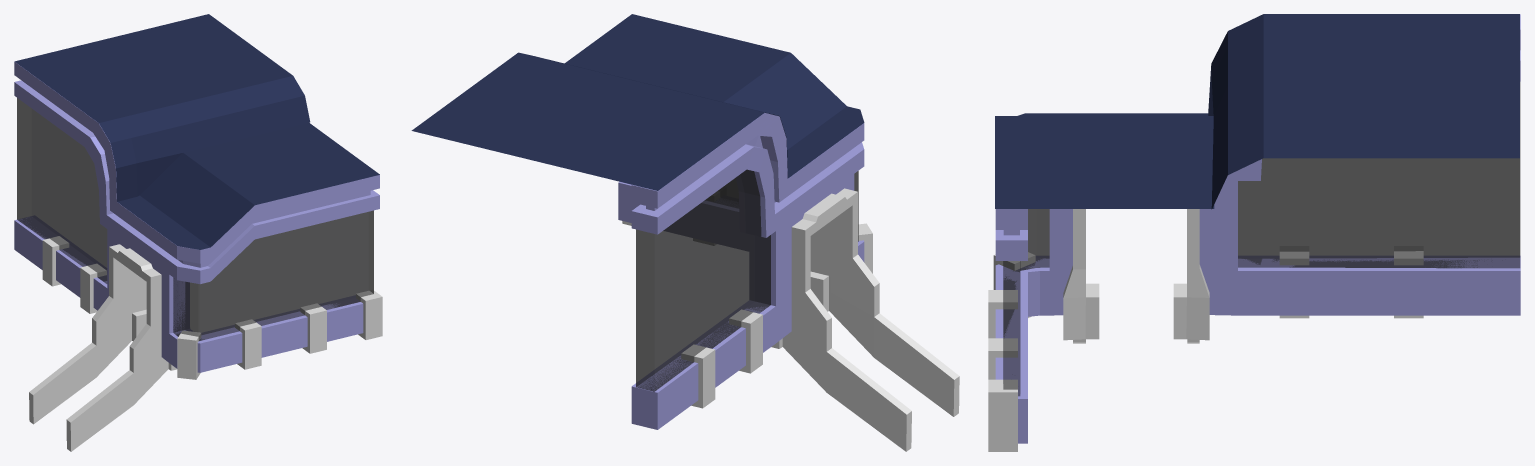
The model's file is labodepart.fbx.
3 renders of one model, left to right at view 1: azimuth 30°, elevation 25°; view 2: azimuth 150°, elevation 25°; view 3: azimuth 270°, elevation 25°, orthographic. The views are drawn at different scales.
Visible parts, largest first — view 1: Cube.004, Cube.003, Cube.002, Cube.005, Cube.009, Cube.006, Cube.008, Cube.007, Cube.011, Cube.010; view 2: Cube.004, Cube.002, Cube.005, Cube.003, Cube.011, Cube.010; view 3: Cube.004, Cube.003, Cube.002, Cube.005, Cube.006, Cube.008, Cube.007, Cube.010, Cube.011.
Part boxes in pixels (<box>): Cube.004: <box>15,14,379,249</box>; Cube.003: <box>17,98,373,340</box>; Cube.002: <box>14,61,379,372</box>; Cube.005: <box>29,244,190,451</box>; Cube.009: <box>177,330,201,379</box>; Cube.006: <box>356,290,382,339</box>; Cube.008: <box>235,319,261,369</box>; Cube.007: <box>300,303,326,353</box>; Cube.011: <box>42,236,69,286</box>; Cube.010: <box>80,263,106,313</box>; Cube.004: <box>411,14,864,190</box>; Cube.002: <box>618,113,864,429</box>; Cube.005: <box>771,188,959,451</box>; Cube.003: <box>636,169,858,391</box>; Cube.011: <box>681,344,715,408</box>; Cube.010: <box>729,309,762,373</box>; Cube.004: <box>995,14,1519,209</box>; Cube.003: <box>1003,82,1520,396</box>; Cube.002: <box>995,14,1520,443</box>; Cube.005: <box>1063,209,1209,343</box>; Cube.006: <box>988,379,1017,451</box>; Cube.008: <box>988,290,1017,338</box>; Cube.007: <box>988,338,1017,379</box>; Cube.010: <box>1279,246,1309,318</box>; Cube.011: <box>1394,246,1423,318</box>.
Bounding box in the file's own units: 3375 × 2949 × 3589.
